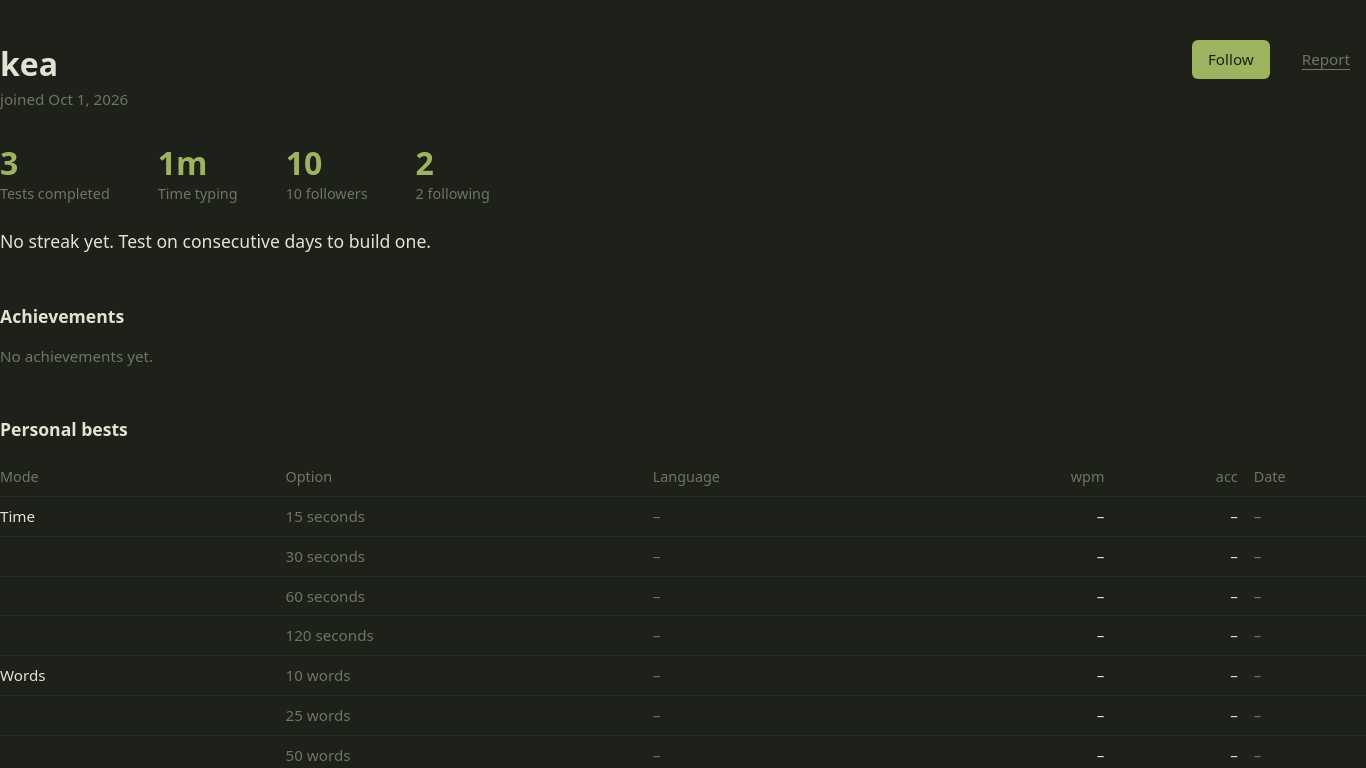
Test: report dialog › shows the duplicate message on 409
Click the button "Report" at (1326,59), box [1286,40,1365,79]
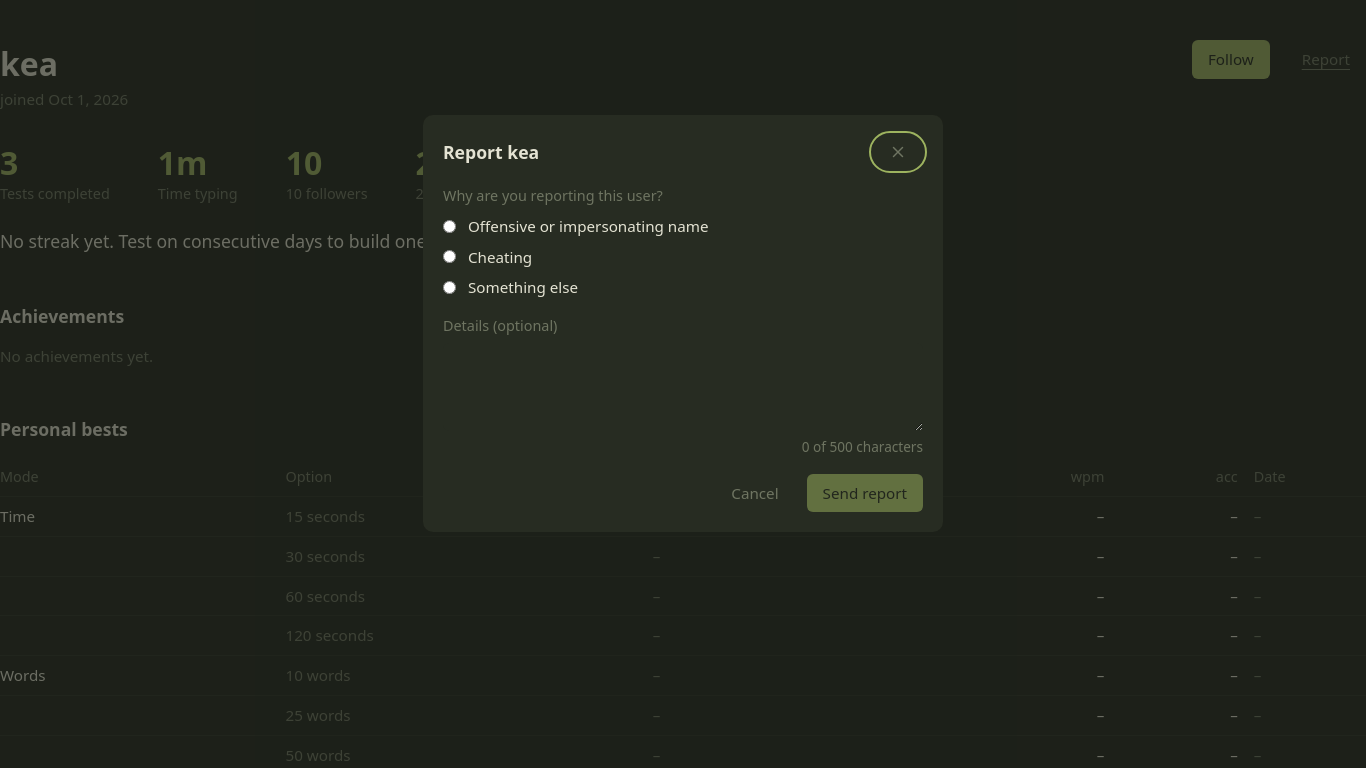
Expected: the button "Send report" is disabled, [807,474,923,512]
Click the radio button labelled "Cheating" at (450,257), box [443,250,456,264]
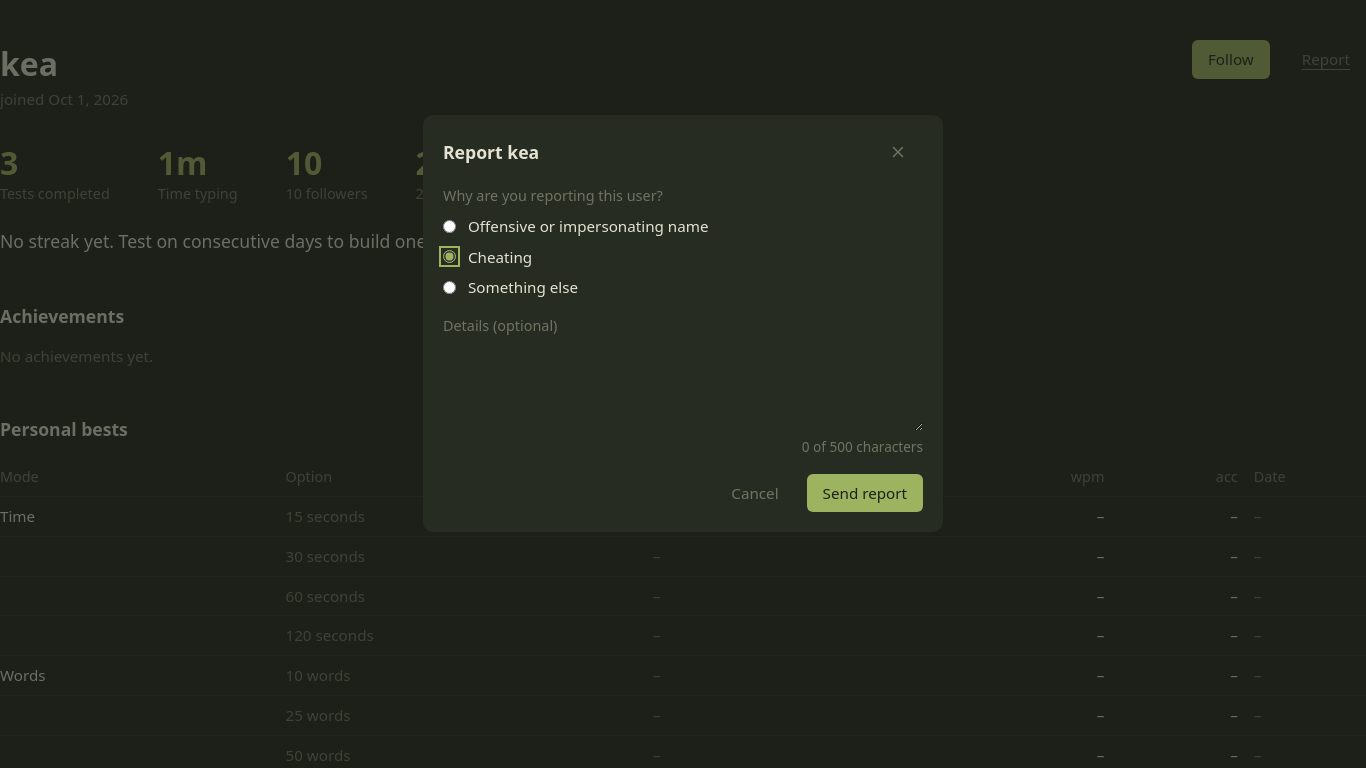
Type "Too fast" into the text box at (683,387), box [443,343,923,431]
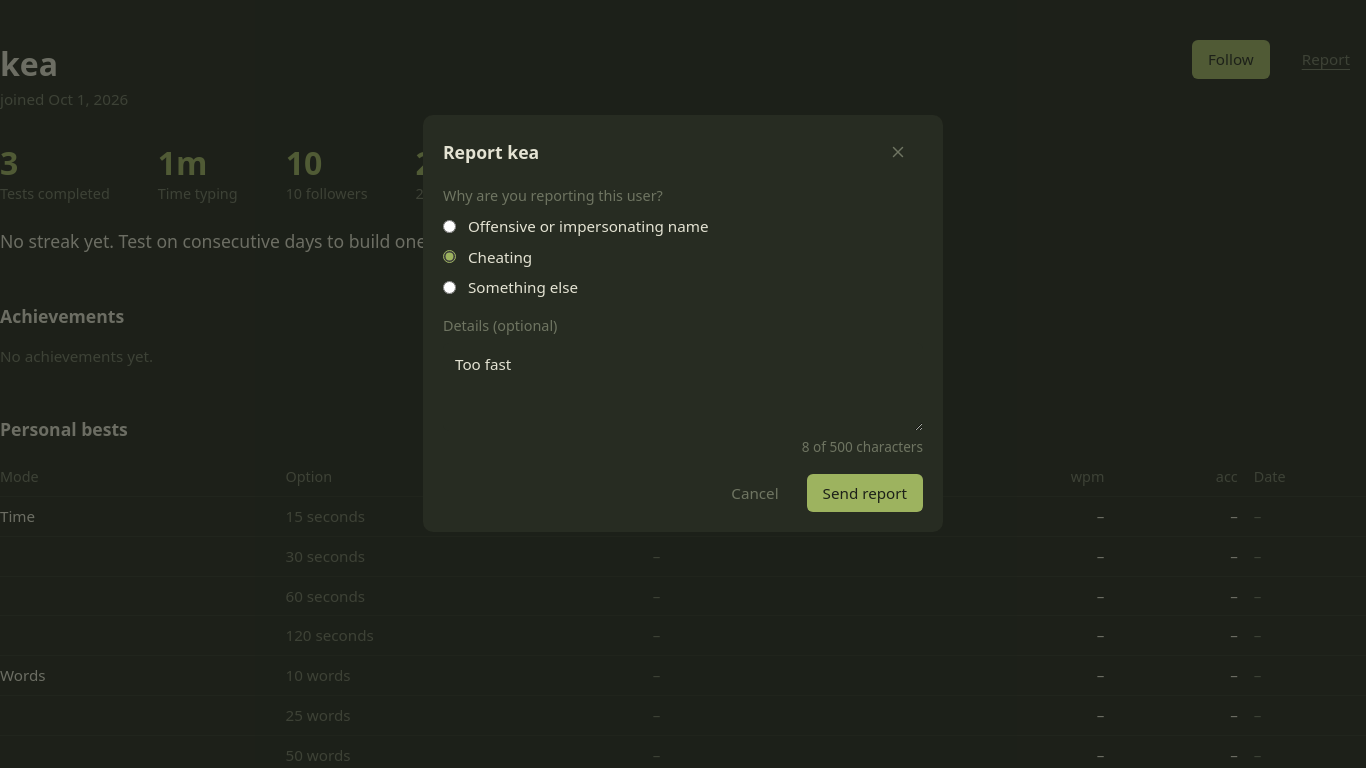
Expected: the button "Send report" is enabled
Click the button "Send report" at (865,493), box [807,474,923,512]
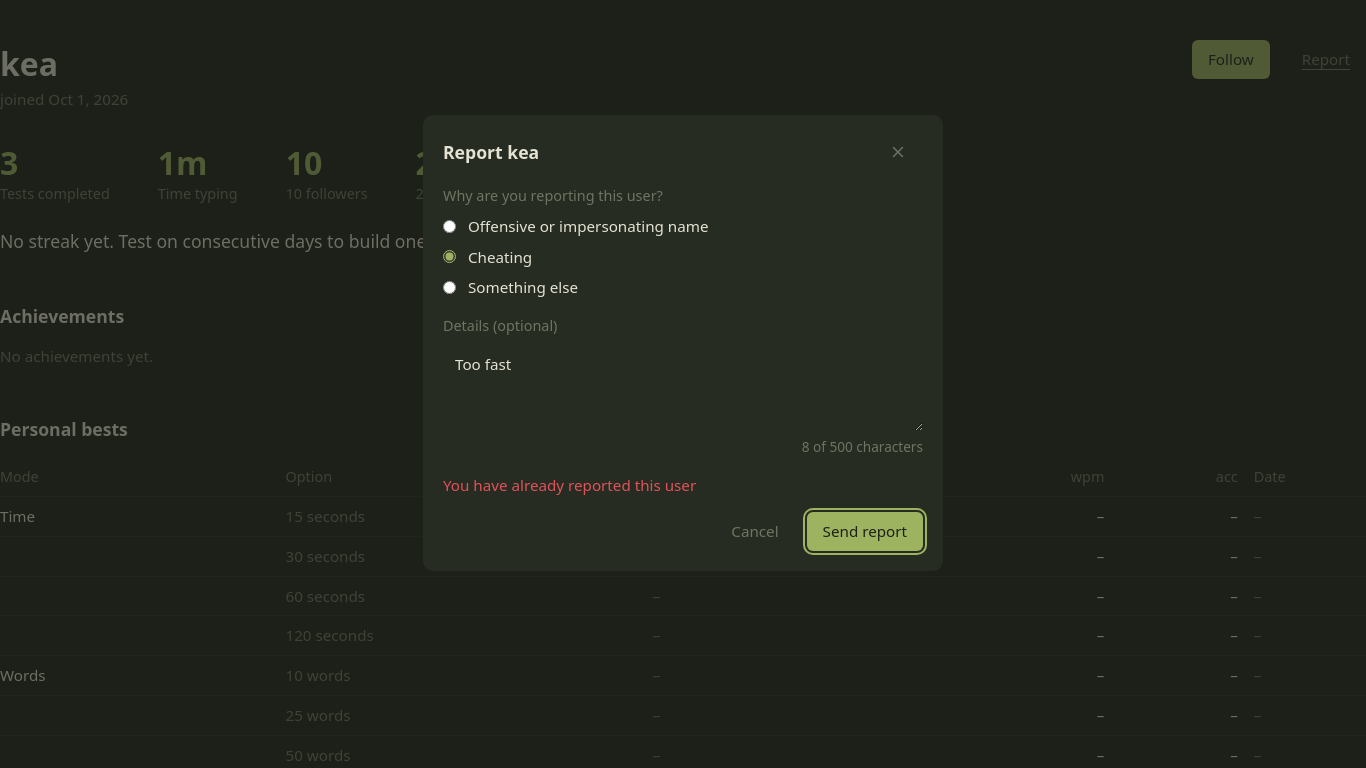
Expected: the message reads "You have already reported this user", [443,474,696,494]
